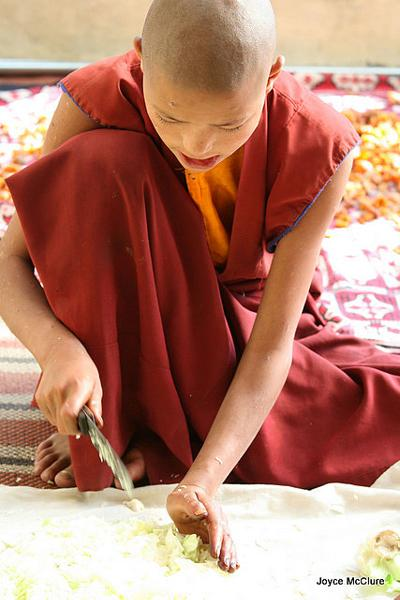person: (1, 1, 400, 572)
